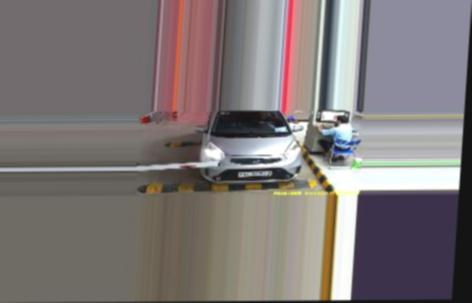License_Plate: (237, 169, 274, 178)
